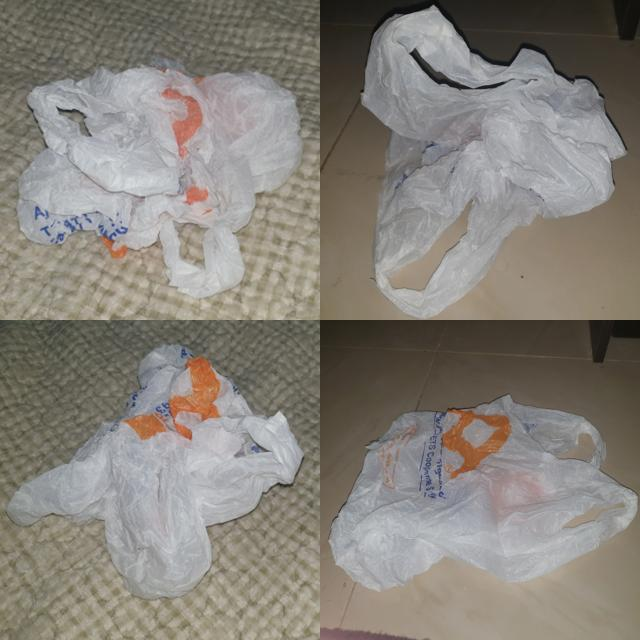Single-layer Plastic: (361, 6, 626, 319), (8, 345, 304, 599), (18, 60, 302, 298), (329, 395, 638, 591)
